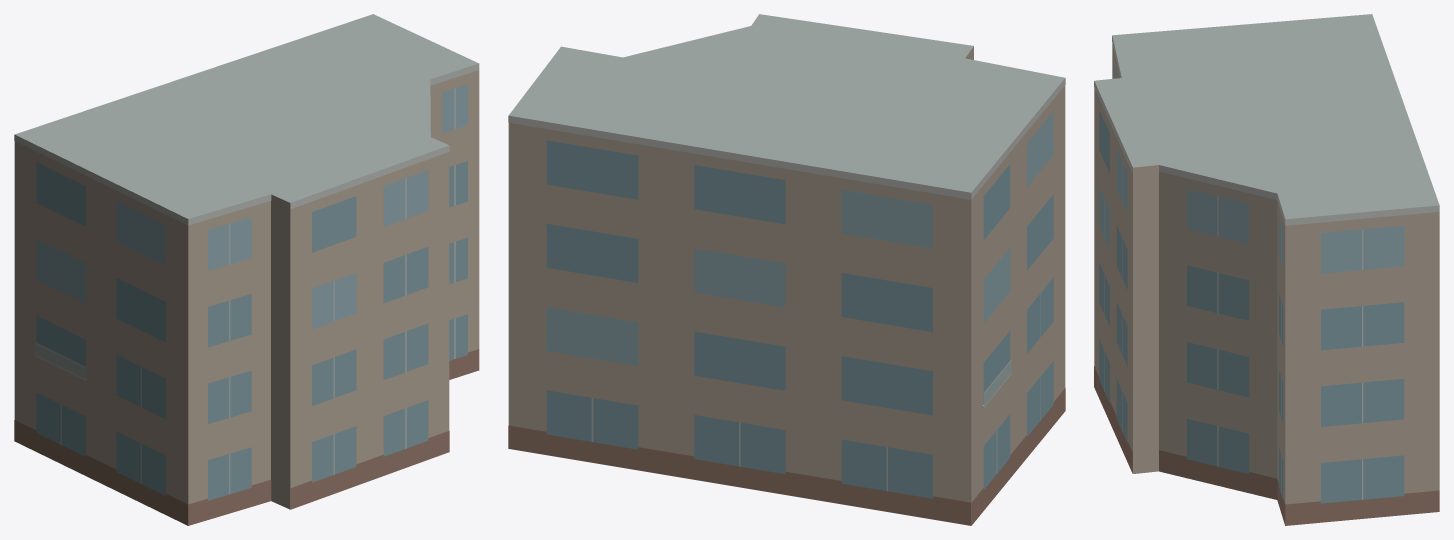
The model's file is survey-upis-32773791.glb.
The picture shows the model from 3 angles, left to right: view 1: azimuth 30°, elevation 25°; view 2: azimuth 150°, elevation 25°; view 3: azimuth 270°, elevation 25°; orthographic projection. The views are drawn at different scales.
Visible parts, largest first — view 1: survey-upis-32773791.tmp; view 2: survey-upis-32773791.tmp; view 3: survey-upis-32773791.tmp.
Part boxes in pixels (x1=…): survey-upis-32773791.tmp: x1=14, y1=14, x2=479, y2=525; survey-upis-32773791.tmp: x1=508, y1=14, x2=1065, y2=525; survey-upis-32773791.tmp: x1=1094, y1=14, x2=1439, y2=525.
Bounding box in the file's own units: 16.68 × 11.6 × 11.86.
